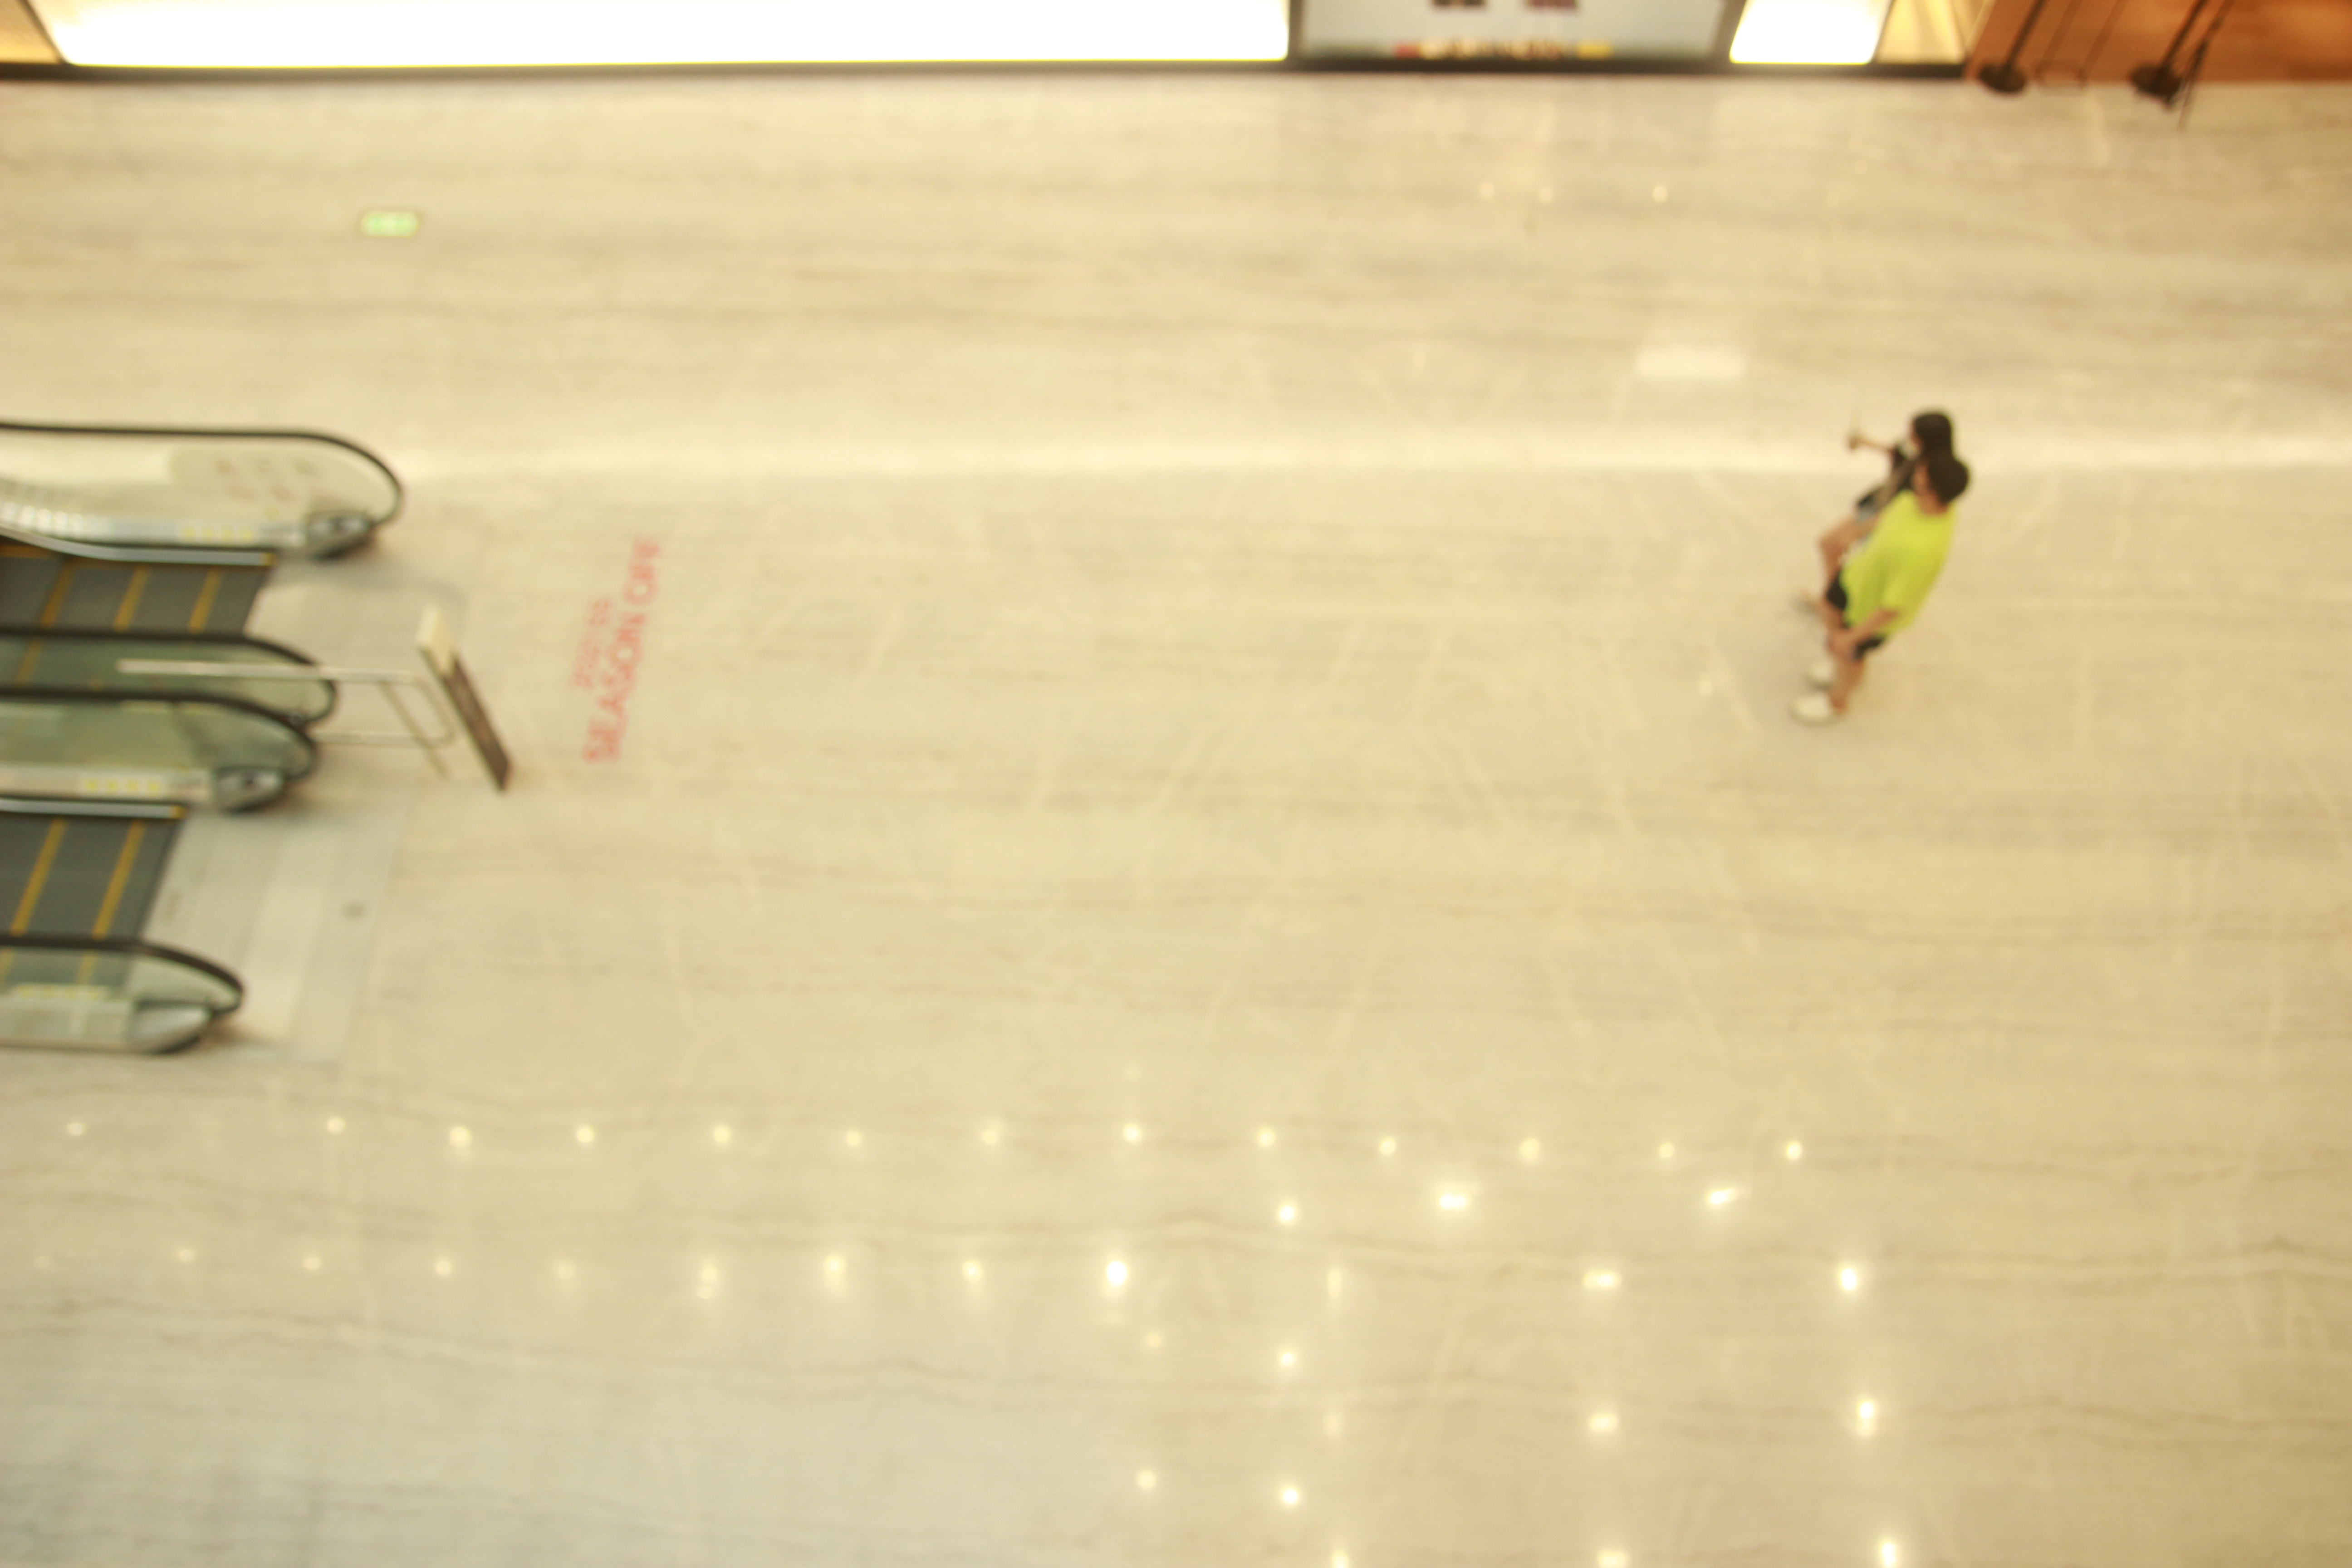person: (1795, 451, 1965, 721), (1813, 406, 1952, 624)
